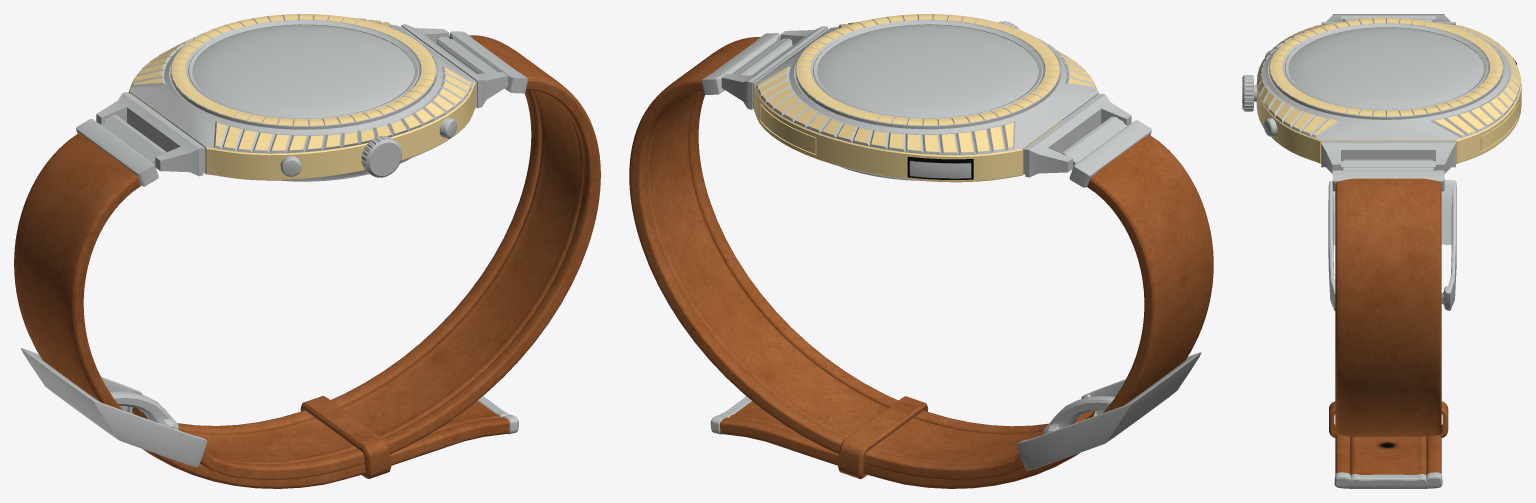
The model's file is Watch.fbx.
3 views of the same model, side by side, from view 1: azimuth 30°, elevation 25°; view 2: azimuth 150°, elevation 25°; view 3: azimuth 270°, elevation 25° (orthographic). The views are drawn at different scales.
Visible parts, largest first — view 1: Strap_02, Watch_Body, Strap_01, Watch_glass, Strap_locker, Strap_Watch_locker, Strap_safety, Buttons; view 2: Strap_02, Watch_Body, Strap_01, Watch_glass, Strap_locker, Strap_Watch_locker, Strap_safety; view 3: Strap_02, Watch_Body, Watch_glass, Strap_01, Strap_Watch_locker, Strap_locker, Buttons, Strap_safety.
Boxes of the visible parts, box(x1,y1,x2,y2) form: Strap_02: box(132, 35, 600, 479); Watch_Body: box(96, 14, 507, 181); Strap_01: box(14, 133, 518, 488); Watch_glass: box(192, 25, 414, 118); Strap_locker: box(20, 348, 207, 467); Strap_Watch_locker: box(76, 31, 528, 186); Strap_safety: box(300, 396, 391, 478); Buttons: box(280, 117, 456, 177); Strap_02: box(629, 37, 1095, 479); Watch_Body: box(721, 14, 1131, 182); Strap_01: box(710, 135, 1213, 488); Watch_glass: box(817, 25, 1038, 117); Strap_locker: box(1017, 352, 1201, 470); Strap_Watch_locker: box(701, 33, 1151, 187); Strap_safety: box(838, 396, 928, 479); Strap_02: box(1335, 178, 1441, 436); Watch_Body: box(1256, 15, 1521, 173); Watch_glass: box(1288, 27, 1483, 109); Strap_01: box(1334, 169, 1442, 488); Strap_Watch_locker: box(1332, 14, 1444, 191); Strap_locker: box(1328, 179, 1456, 310); Buttons: box(1242, 50, 1277, 136); Strap_safety: box(1329, 401, 1448, 437).
Bounding box in the file's own units: 10.36 × 7.52 × 5.35.
